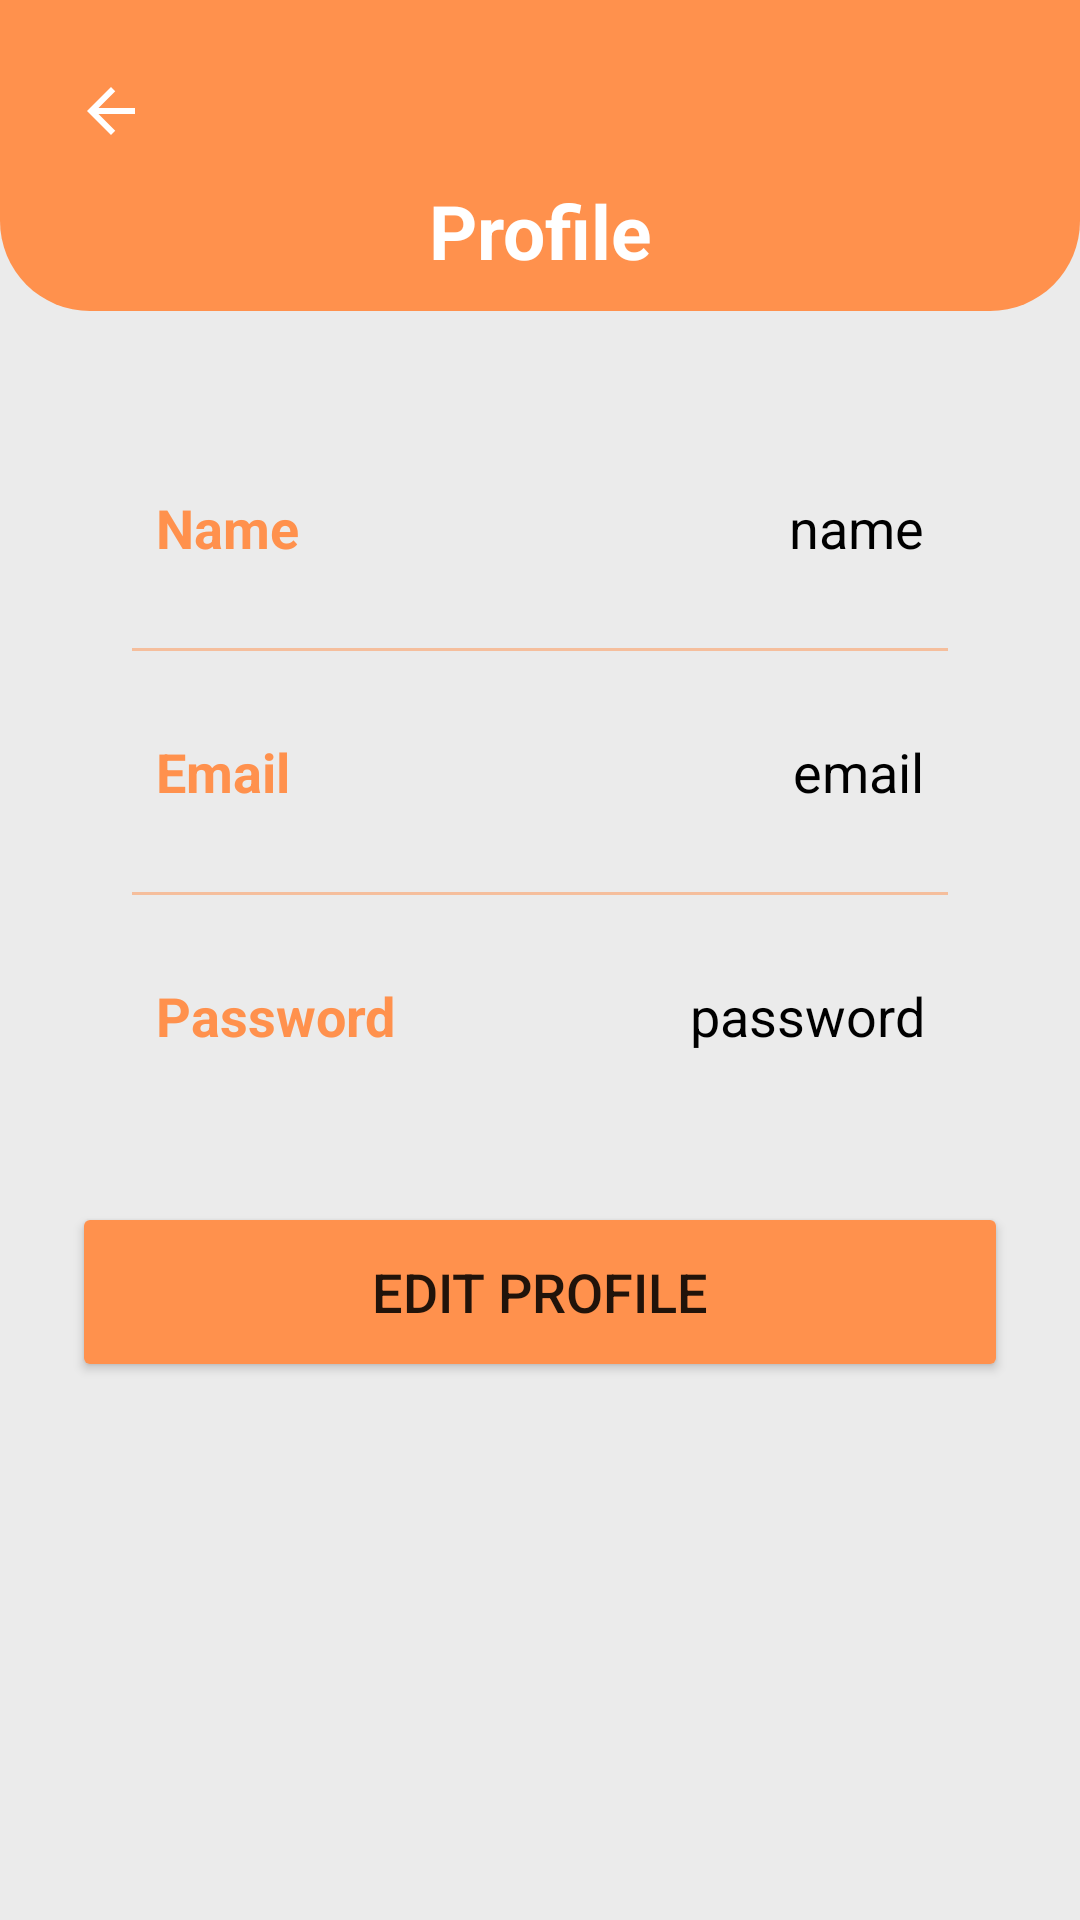

Where to tap for icons on this 1080w x 1920h app screen, as (x=x, y=y):
arrow back: (x=111, y=111)
